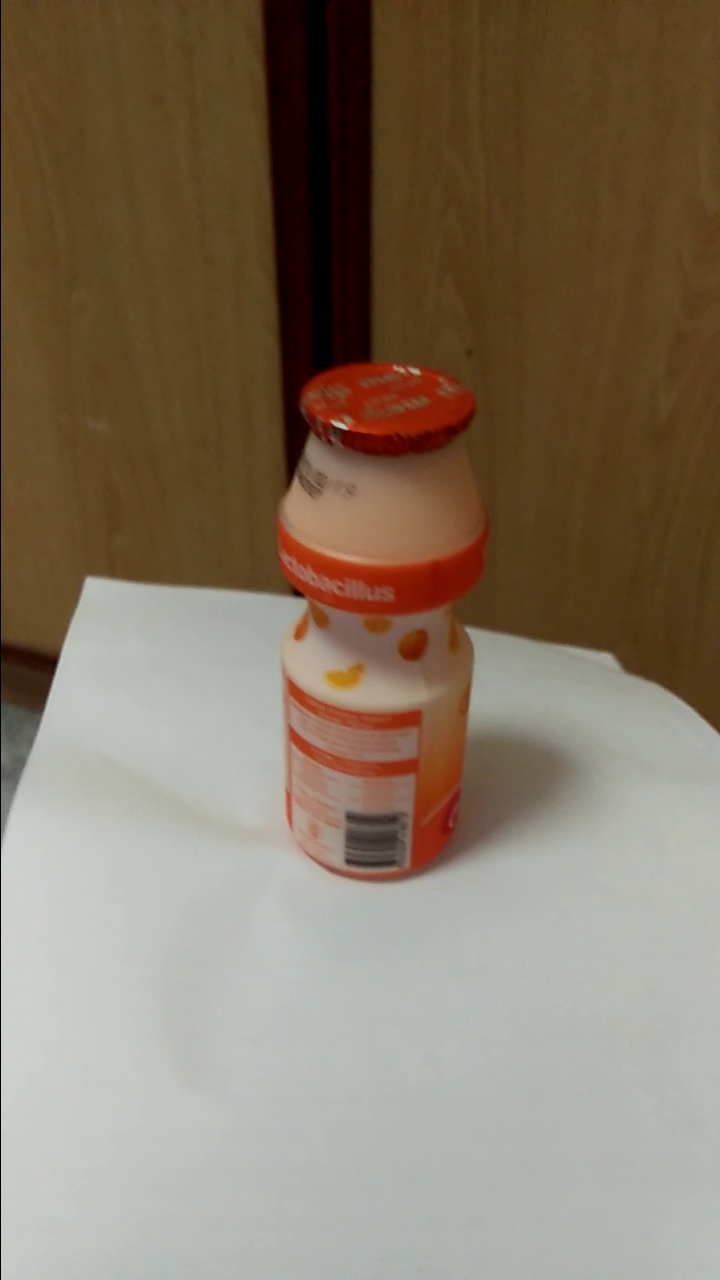milk: (292, 359, 470, 880)
